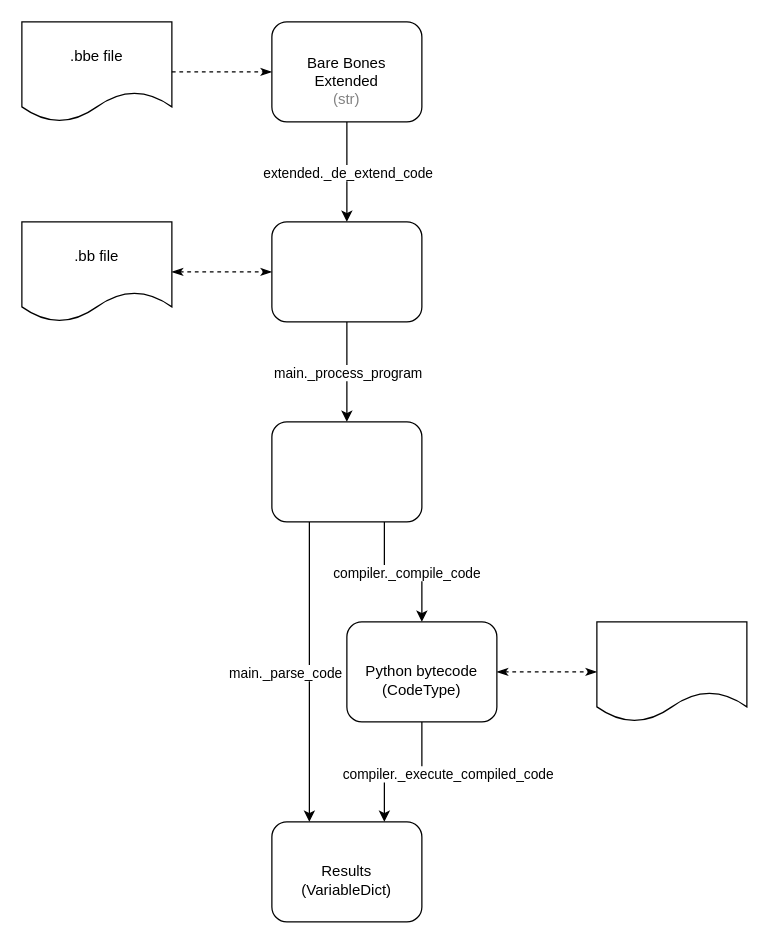
This 769x944 diagram has some shape labels left out. Here are the shapes that lost their labels. From the top down, the centre of each, then its label:
At point (346, 271): "Bare Bones (str)".
At point (346, 471): "Processed Bare Bones (list[ProcessedLine])".
At point (671, 671): ".pyc file".
